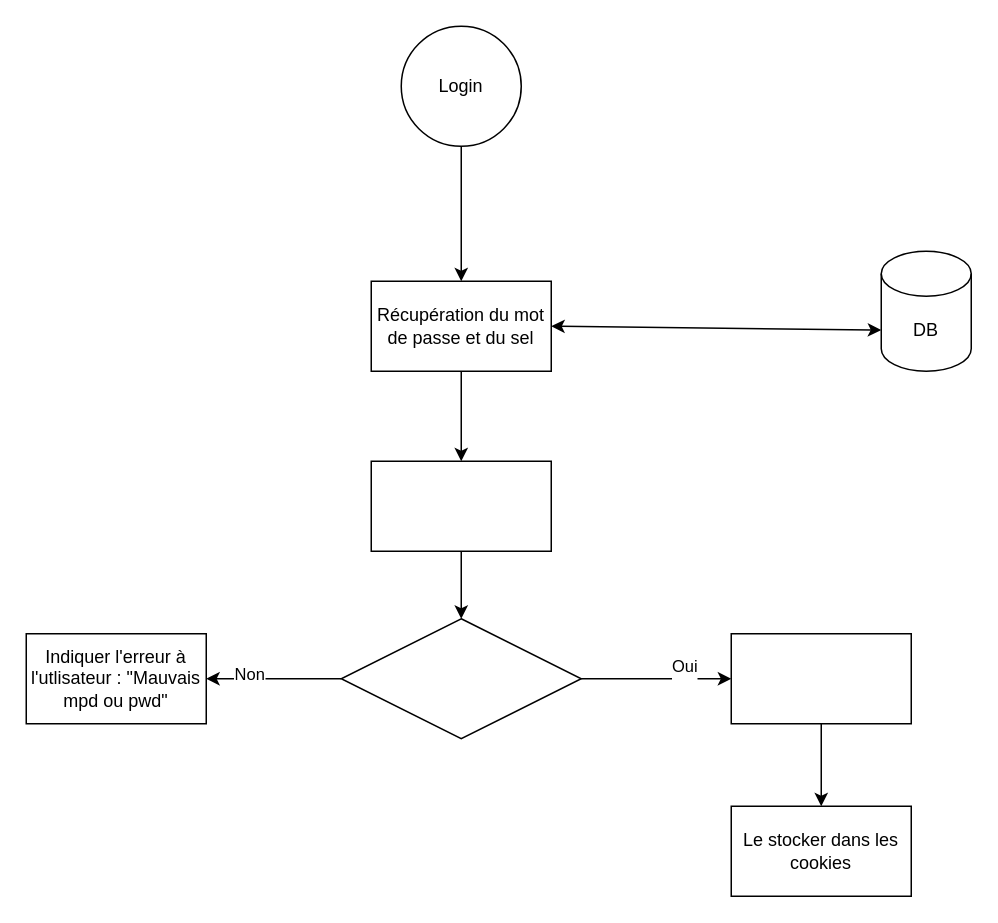
This 998x923 diagram has some shape labels left out. Here are the shapes that lost their labels. From the top down, the box of each, then its label:
(370, 460, 551, 551): Hachage du mdp de l'utilisateur concaténé au sel et au poivre
(340, 617, 581, 739): Hashs identiques ?
(730, 632, 911, 724): Générer un token JWT
